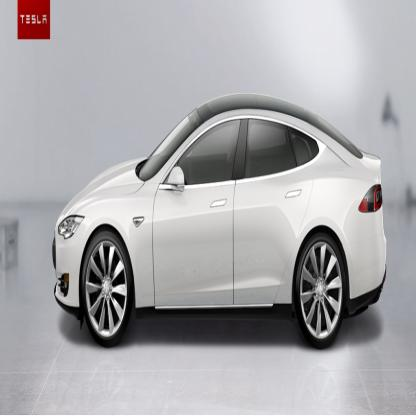Vehicle: (53, 96, 388, 351)
